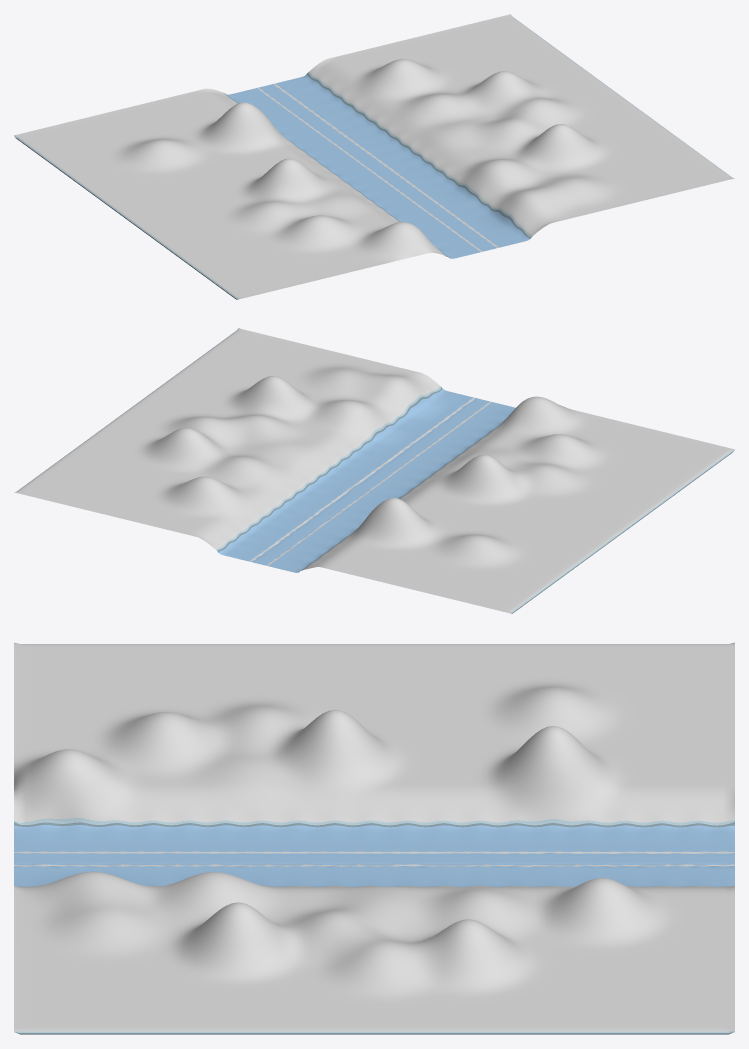
3 renders of one model, top to bottom at view 1: azimuth 30°, elevation 25°; view 2: azimuth 150°, elevation 25°; view 3: azimuth 270°, elevation 25°, orthographic. The views are drawn at different scales.
Visible parts, largest first — view 1: Chão; view 2: Chão; view 3: Chão.
Boxes of the visible parts, x1,y1,x2,y2 form: Chão: (14,14,734,299); Chão: (14,328,734,613); Chão: (14,642,734,1034).
Bounding box in the file's own units: 290 × 24.36 × 227.
